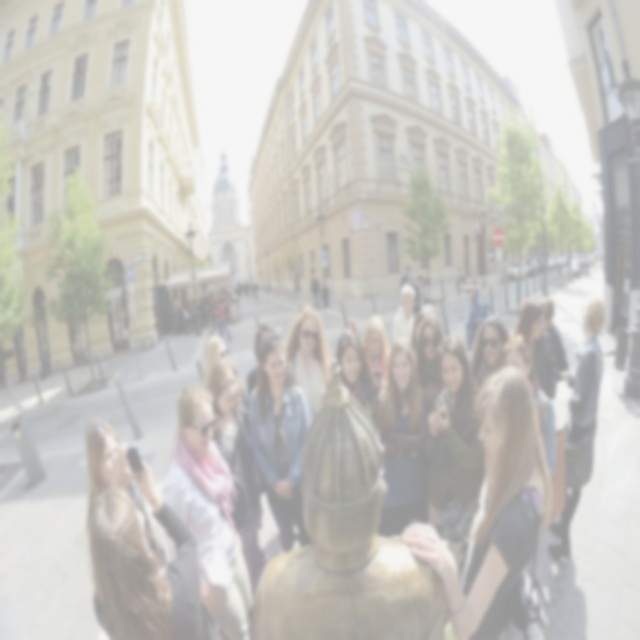pessoa: (397, 361, 558, 639), (85, 439, 221, 639), (158, 379, 258, 639), (544, 294, 606, 563), (206, 353, 266, 624), (422, 334, 488, 573), (248, 328, 314, 551), (83, 414, 169, 576), (500, 333, 568, 534), (374, 334, 428, 538), (282, 301, 334, 429), (514, 296, 570, 404), (334, 328, 380, 422), (469, 314, 513, 392), (462, 274, 492, 380), (245, 320, 281, 406), (361, 314, 392, 392), (391, 281, 418, 347), (176, 293, 217, 336), (199, 335, 229, 373), (410, 306, 434, 351), (226, 278, 271, 300), (214, 296, 233, 342), (398, 262, 418, 298), (412, 272, 426, 316), (310, 271, 320, 311)
